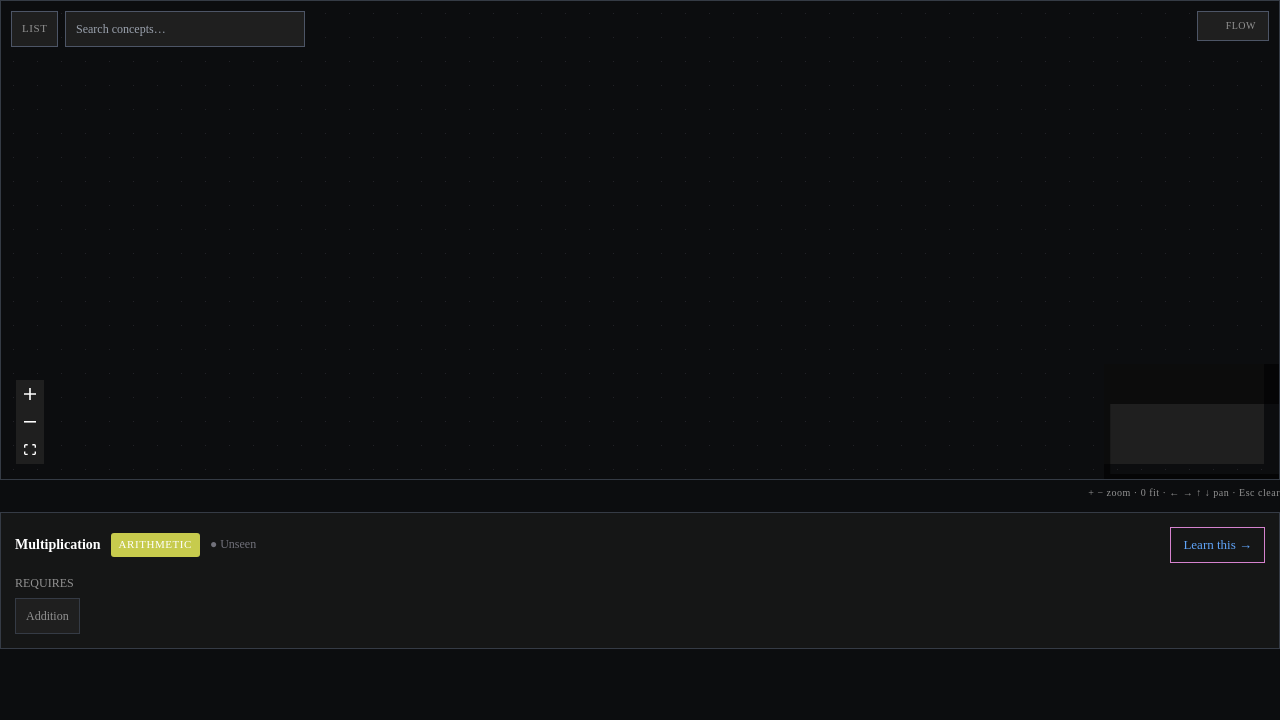
Test case: ConceptGraphFlow keyboard controls › Escape closes the list view before clearing the selection
Click the button with aria-label "Open concept list" at (35, 29), box [11,11,58,47]
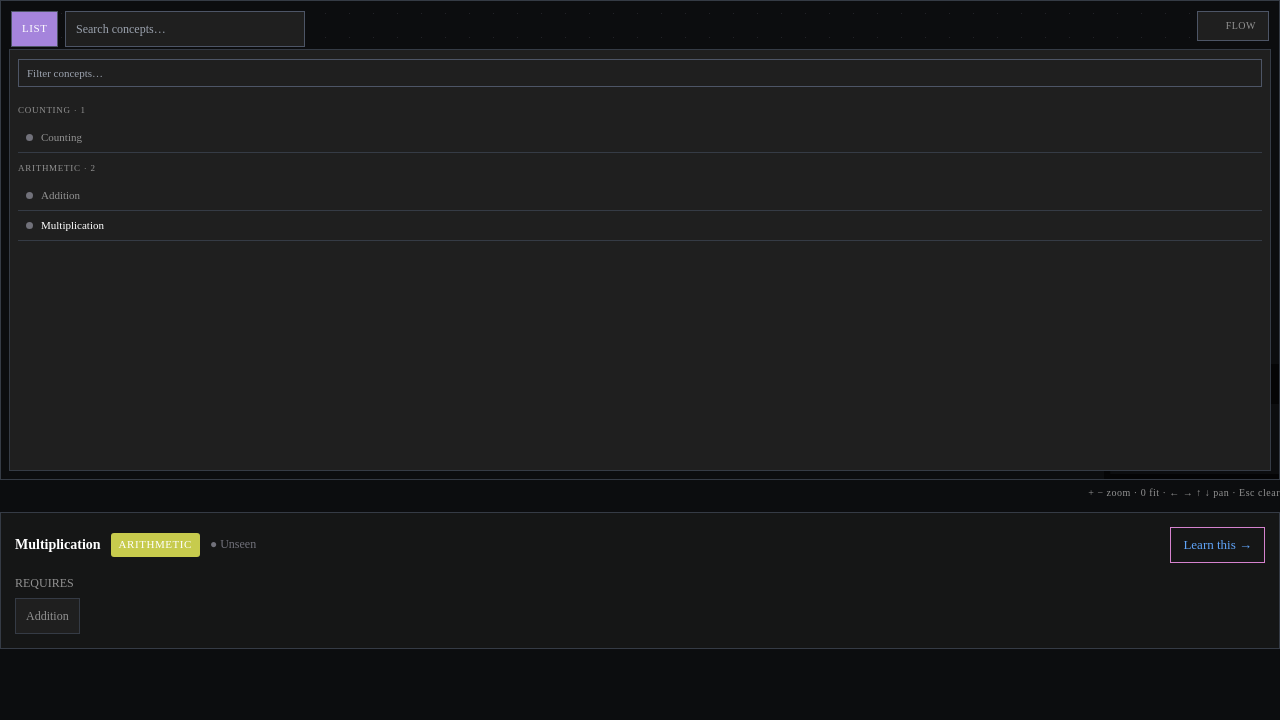
Expected: the dialog named "Concept list" is shown, [9,49,1271,471]
Press Escape
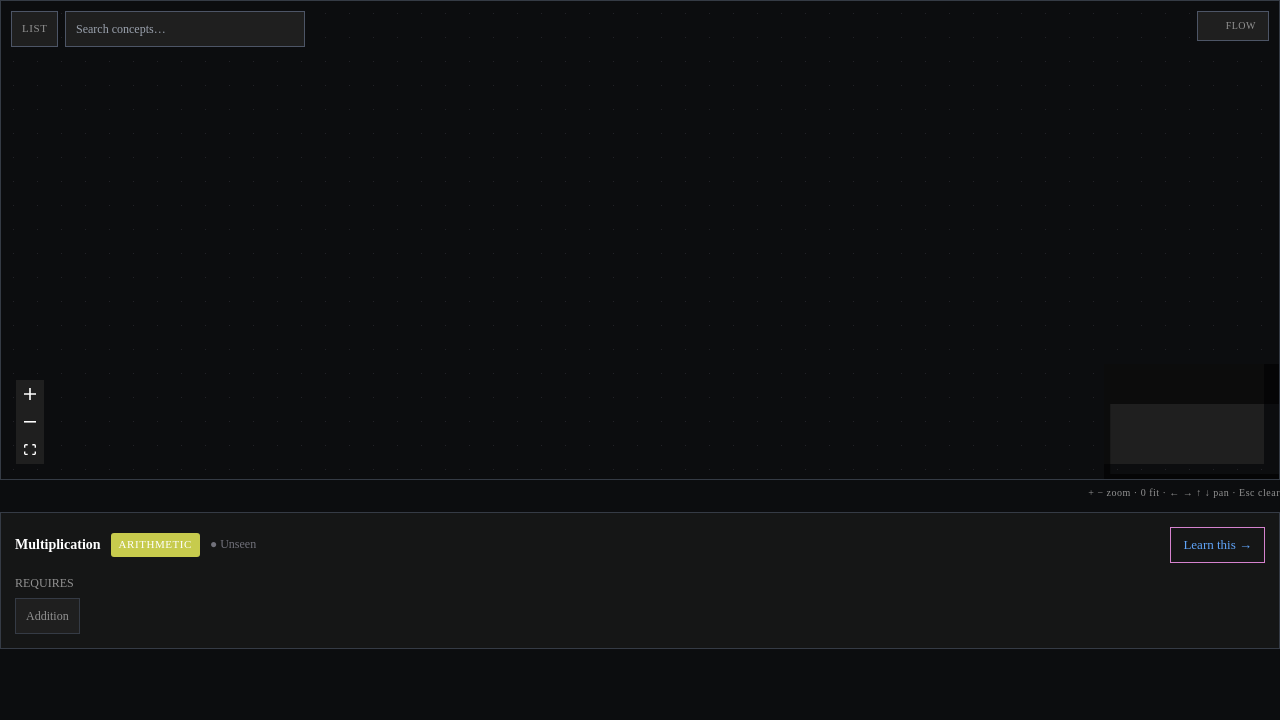
Expected: the dialog is gone
